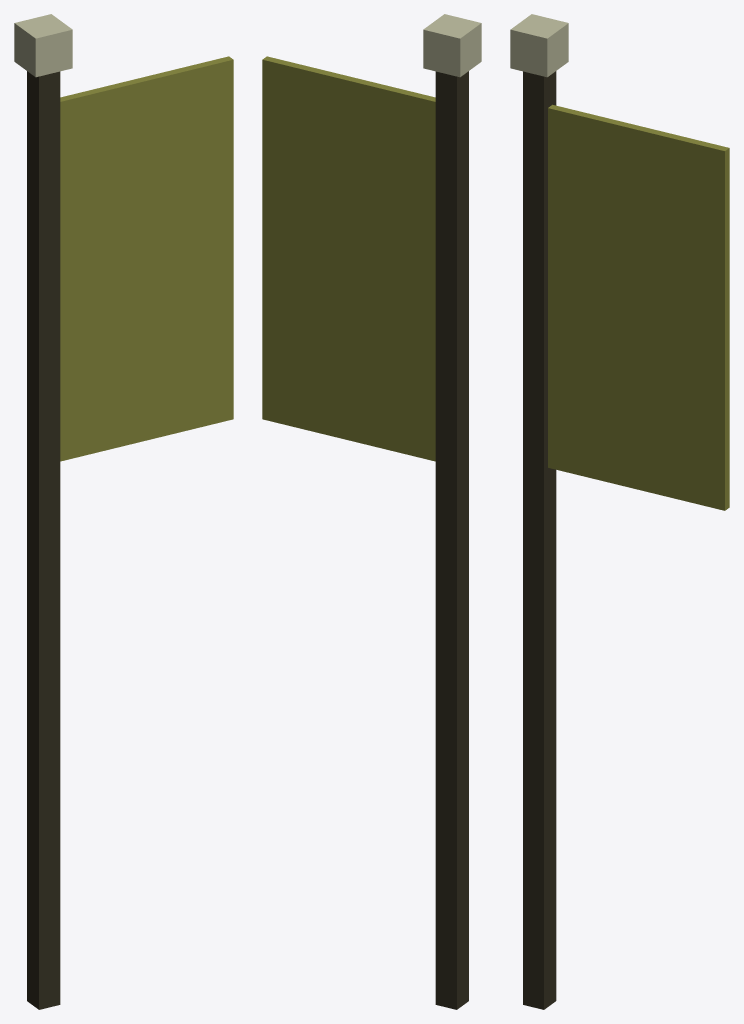
Rendered from village_banner.glb.
3 views of the same model, side by side, from view 1: azimuth 30°, elevation 25°; view 2: azimuth 150°, elevation 25°; view 3: azimuth 330°, elevation 25° (orthographic).
Parts seen in each view (by area): view 1: banner_cloth, banner_pole, banner_finial; view 2: banner_cloth, banner_pole, banner_finial; view 3: banner_cloth, banner_pole, banner_finial.
Part boxes in pixels (x1=…): banner_cloth: x1=60, y1=56, x2=233, y2=461; banner_pole: x1=27, y1=71, x2=60, y2=1009; banner_finial: x1=14, y1=14, x2=72, y2=77; banner_cloth: x1=262, y1=56, x2=435, y2=461; banner_pole: x1=435, y1=71, x2=468, y2=1009; banner_finial: x1=423, y1=14, x2=481, y2=77; banner_cloth: x1=548, y1=104, x2=729, y2=510; banner_pole: x1=523, y1=71, x2=556, y2=1009; banner_finial: x1=510, y1=14, x2=568, y2=77.
Size of the model in its own units: 0.78 by 3.53 by 0.14.
